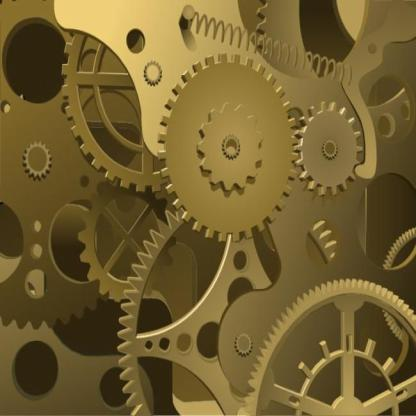FOD: (241, 275, 415, 415), (76, 179, 149, 305)
